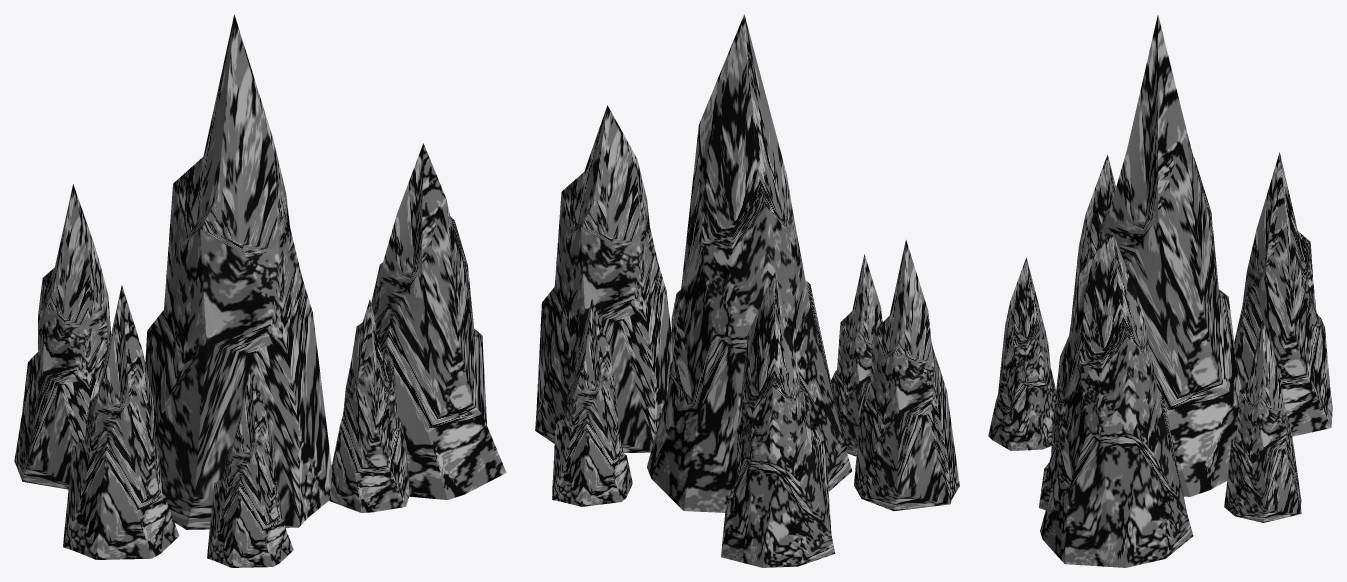
Rendered from Spike.fbx.
3 views of the same model, side by side, from view 1: azimuth 30°, elevation 25°; view 2: azimuth 150°, elevation 25°; view 3: azimuth 270°, elevation 25° (orthographic). The views are drawn at different scales.
Visible parts, largest first — view 1: SM_rock_spikes; view 2: SM_rock_spikes; view 3: SM_rock_spikes.
Boxes of the visible parts, x1,y1,x2,y2 form: SM_rock_spikes: (14, 14, 506, 567); SM_rock_spikes: (535, 14, 959, 567); SM_rock_spikes: (988, 15, 1332, 567).
Size of the model in its own units: 55.02 by 59.36 by 41.36.
